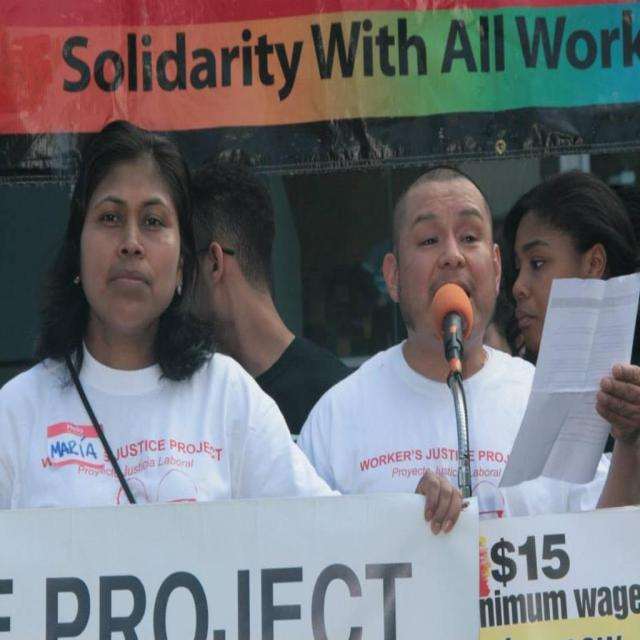Face: (387, 181, 506, 338), (85, 167, 180, 328)
